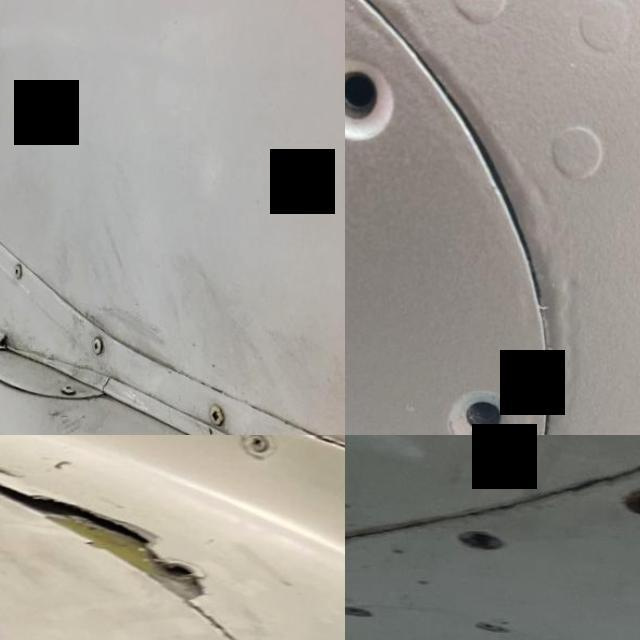Crack: (22, 487, 216, 609), (118, 368, 282, 435)
Missing_Fastener: (345, 15, 438, 194), (403, 331, 561, 435), (454, 522, 512, 552), (616, 475, 640, 514), (163, 556, 199, 576)
